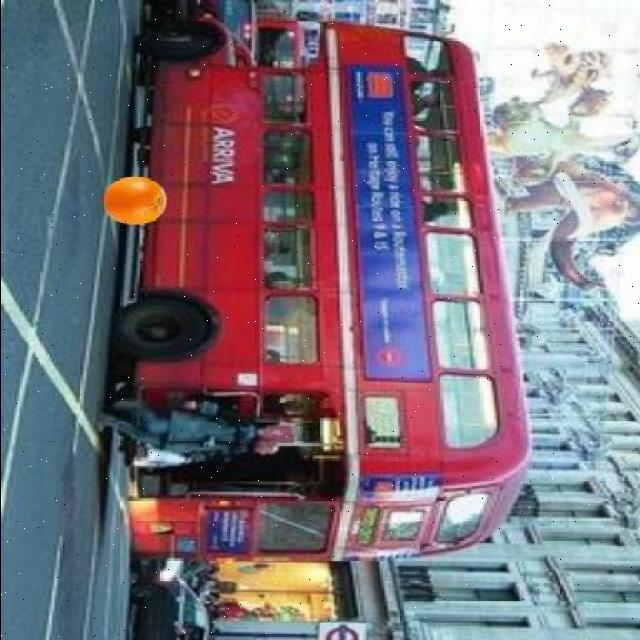Orange: (102, 174, 170, 226)
